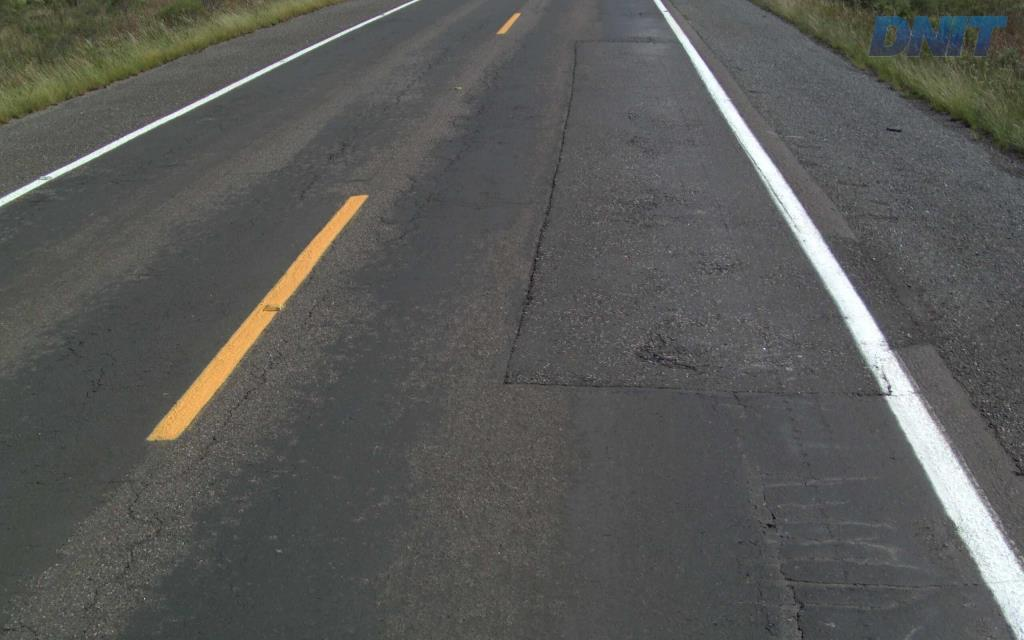crack: (513, 217, 549, 342), (634, 333, 697, 371)
